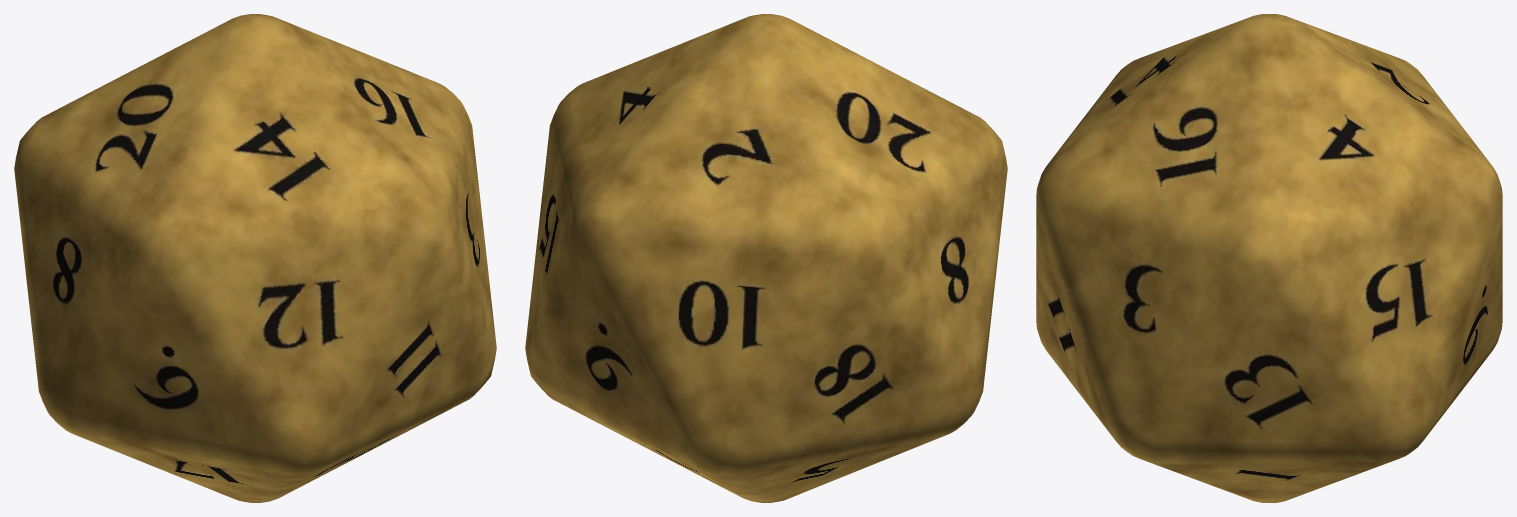
Rendered from imperial-d20.glb.
The picture shows the model from 3 angles, left to right: view 1: azimuth 30°, elevation 25°; view 2: azimuth 150°, elevation 25°; view 3: azimuth 270°, elevation 25°; orthographic projection.
Visible parts, largest first — view 1: imperial_d20; view 2: imperial_d20; view 3: imperial_d20.
Part boxes in pixels (x1=…): imperial_d20: x1=14, y1=14, x2=496, y2=502; imperial_d20: x1=525, y1=14, x2=1007, y2=502; imperial_d20: x1=1036, y1=14, x2=1502, y2=502.
Bounding box in the file's own units: 1.74 × 1.9 × 1.67.
Materials: 1 (1 with a texture image).
